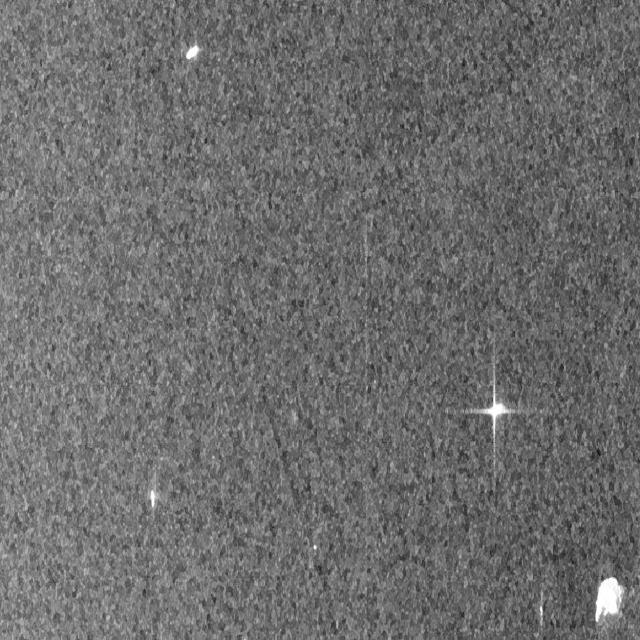ship: (465, 367, 521, 455), (177, 36, 208, 72), (143, 479, 160, 512)
